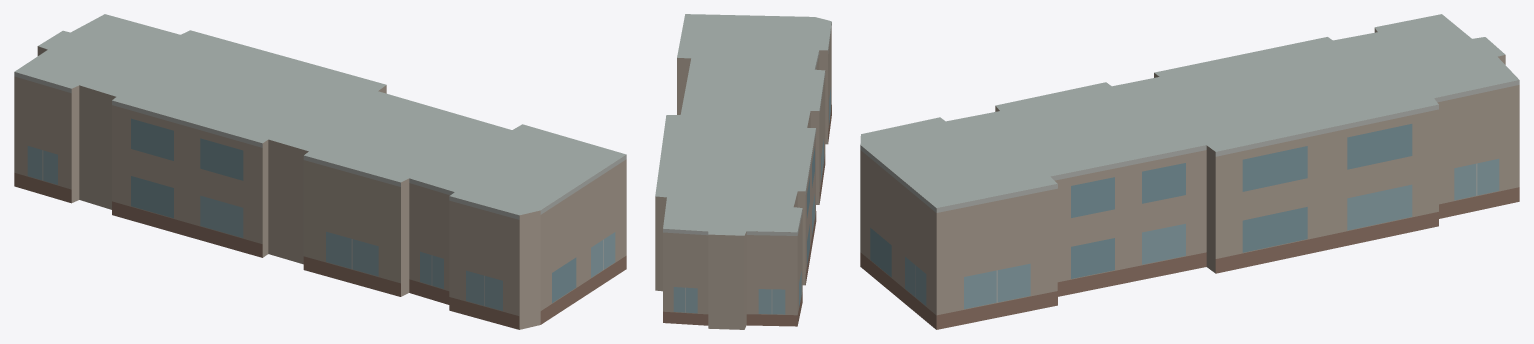
The model's file is survey-upis-32522425.glb.
3 renders of one model, left to right at view 1: azimuth 30°, elevation 25°; view 2: azimuth 150°, elevation 25°; view 3: azimuth 270°, elevation 25°, orthographic. The views are drawn at different scales.
Visible parts, largest first — view 1: survey-upis-32522425.tmp; view 2: survey-upis-32522425.tmp; view 3: survey-upis-32522425.tmp.
Boxes of the visible parts, bbox=[...] form: survey-upis-32522425.tmp: bbox=[14, 14, 626, 329]; survey-upis-32522425.tmp: bbox=[655, 14, 831, 329]; survey-upis-32522425.tmp: bbox=[860, 14, 1519, 329].
Size of the model in its own units: 20.88 by 6.1 by 29.95.
